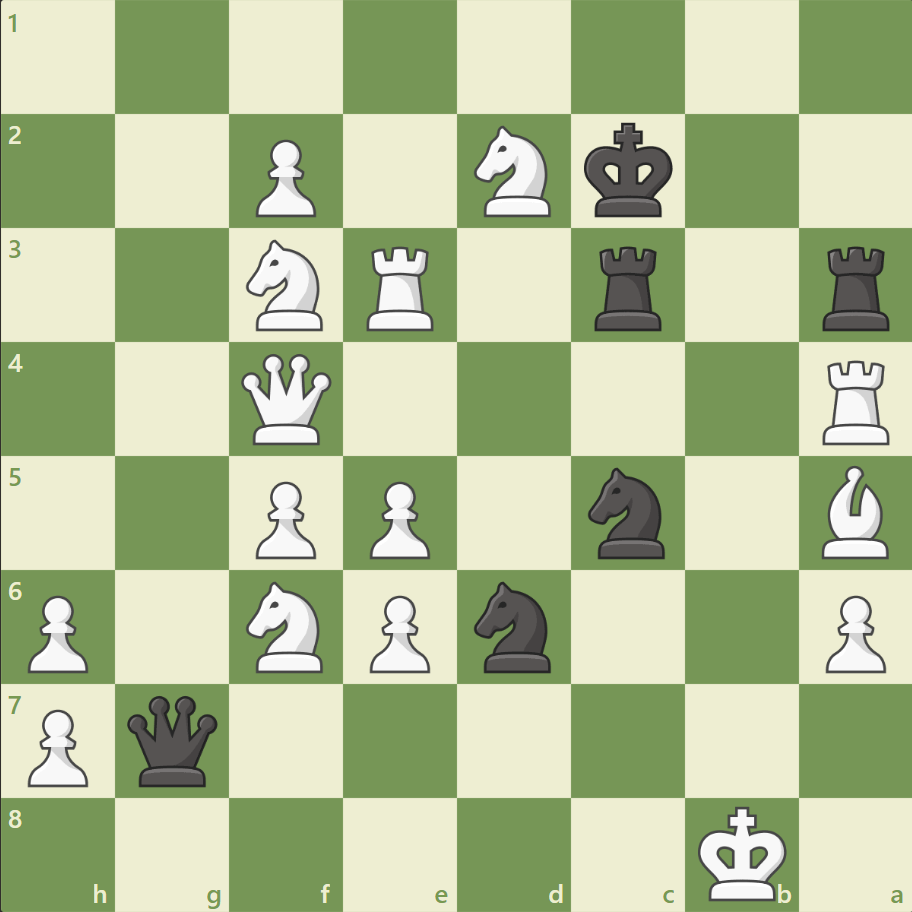B: (812, 460, 896, 563)
K: (692, 798, 792, 906)
N: (238, 234, 335, 337), (238, 575, 335, 677), (465, 121, 562, 223)
P: (20, 700, 95, 791), (20, 586, 95, 677), (247, 473, 322, 564), (247, 132, 322, 223), (815, 586, 889, 677), (361, 586, 435, 677), (361, 473, 435, 564)
Q: (237, 349, 336, 449)
R: (814, 352, 897, 449), (360, 239, 442, 336)
k: (579, 117, 679, 225)
n: (579, 461, 676, 564), (465, 575, 562, 677)
q: (124, 690, 223, 789)
r: (814, 239, 897, 336), (587, 239, 670, 336)
